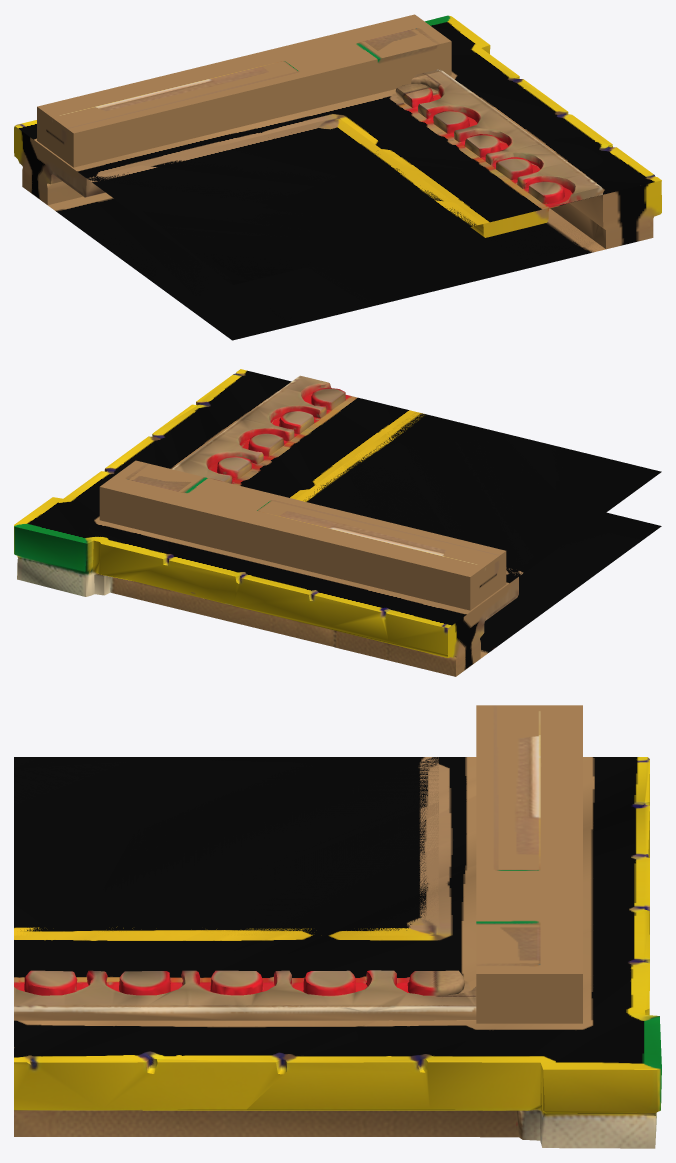
The model's file is 12-roof-back-right.fbx.
3 views of the same model, one above another, from view 1: azimuth 30°, elevation 25°; view 2: azimuth 150°, elevation 25°; view 3: azimuth 270°, elevation 25° (orthographic). The views are drawn at different scales.
Visible parts, largest first — view 1: roof-back-right; view 2: roof-back-right; view 3: roof-back-right.
Part boxes in pixels (bbox=[...]): roof-back-right: bbox=[14, 14, 661, 340]; roof-back-right: bbox=[14, 369, 661, 676]; roof-back-right: bbox=[14, 705, 661, 1148].
Size of the model in its own units: 5125 by 1012 by 4487.
1 material, 1 textured.
